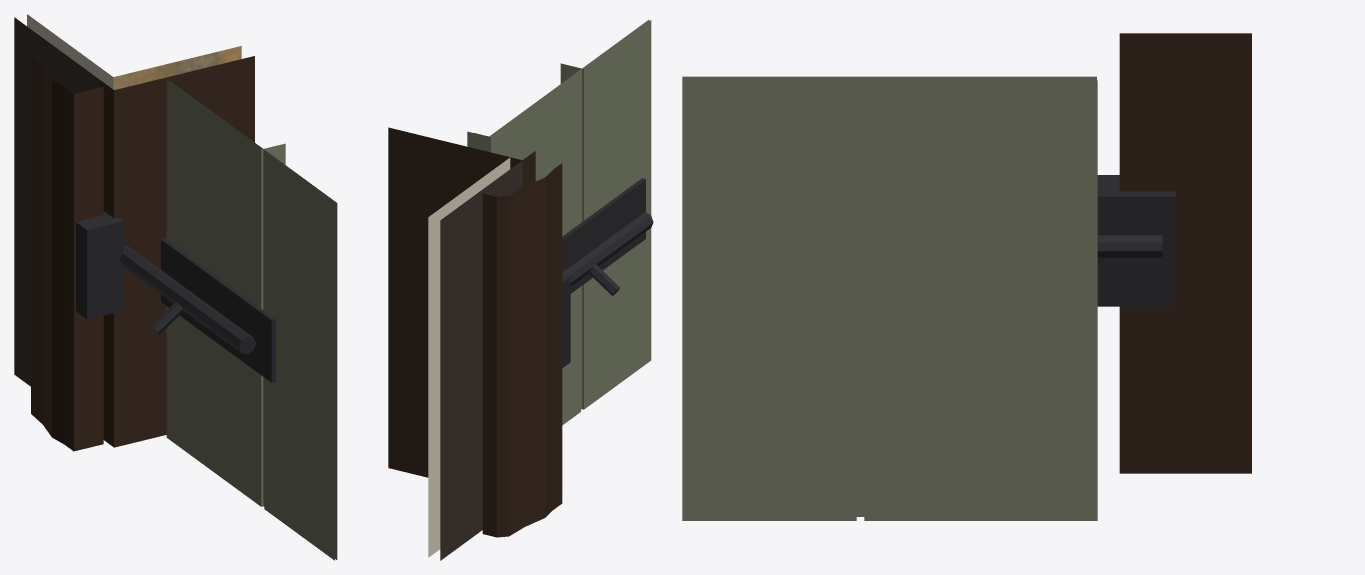
The model's file is latch-review-base-v1.glb.
3 renders of one model, left to right at view 1: azimuth 30°, elevation 25°; view 2: azimuth 150°, elevation 25°; view 3: azimuth 270°, elevation 25°, orthographic. The views are drawn at different scales.
Parts seen in each view (by area): view 1: 暗房·温室侧门, 暗房·墙面与线脚, 暗房·侧门插销扣, 主体结构-col; view 2: 暗房·墙面与线脚, 暗房·温室侧门, 主体结构-col, 暗房·侧门插销扣; view 3: 暗房·温室侧门, 暗房·墙面与线脚, 暗房·侧门插销扣.
Boxes of the visible parts, bbox=[...] form: 暗房·温室侧门: bbox=[119, 80, 337, 560]; 暗房·墙面与线脚: bbox=[14, 17, 254, 451]; 暗房·侧门插销扣: bbox=[76, 211, 123, 319]; 主体结构-col: bbox=[27, 14, 241, 89]; 暗房·墙面与线脚: bbox=[388, 127, 562, 560]; 暗房·温室侧门: bbox=[467, 19, 653, 425]; 主体结构-col: bbox=[428, 157, 510, 557]; 暗房·侧门插销扣: bbox=[562, 275, 570, 367]; 暗房·温室侧门: bbox=[682, 76, 1162, 520]; 暗房·墙面与线脚: bbox=[1119, 33, 1251, 473]; 暗房·侧门插销扣: bbox=[1097, 175, 1175, 306].
Bounding box in the file's own units: 0.166 × 0.32 × 0.44.
6 materials, 1 textured.
